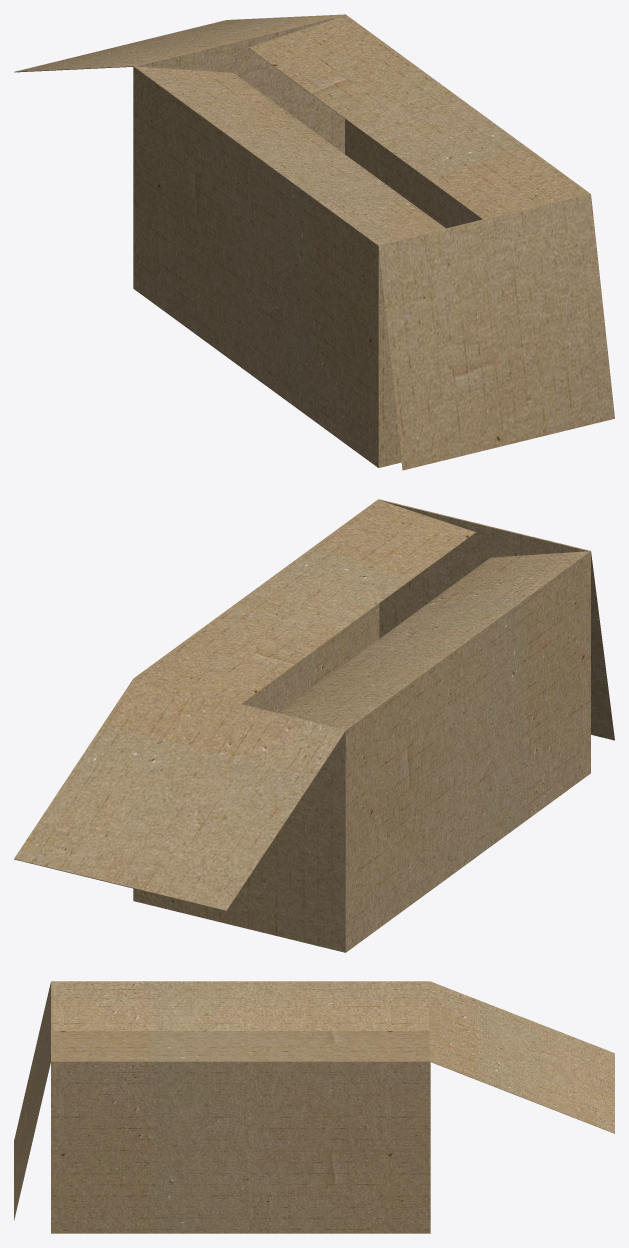
File: BoxCardboard.FBX
3 views of the same model, one above another, from view 1: azimuth 30°, elevation 25°; view 2: azimuth 150°, elevation 25°; view 3: azimuth 270°, elevation 25° (orthographic). The views are drawn at different scales.
Parts seen in each view (by area): view 1: 4; view 2: 4; view 3: 4.
Part boxes in pixels (x1=…): 4: x1=14, y1=14, x2=614, y2=470; 4: x1=14, y1=499, x2=614, y2=952; 4: x1=14, y1=981, x2=614, y2=1233.
Size of the model in its own units: 22.11 by 22.11 by 70.03.
1 material, 1 textured.
